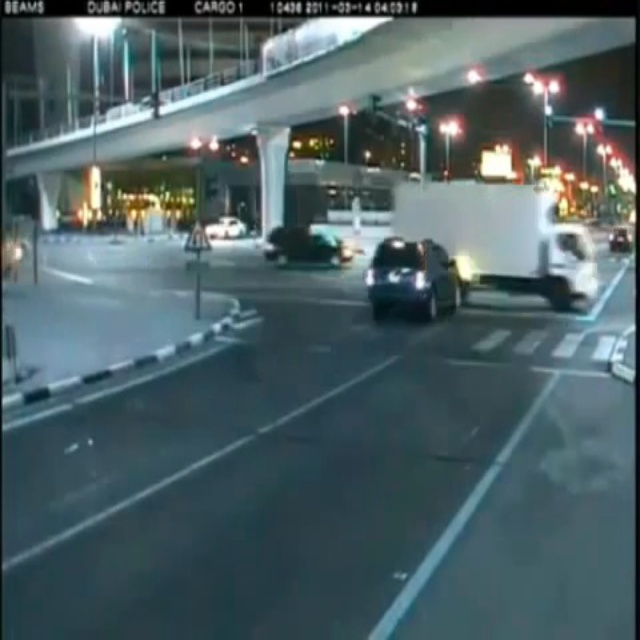acc: (355, 177, 503, 338)
